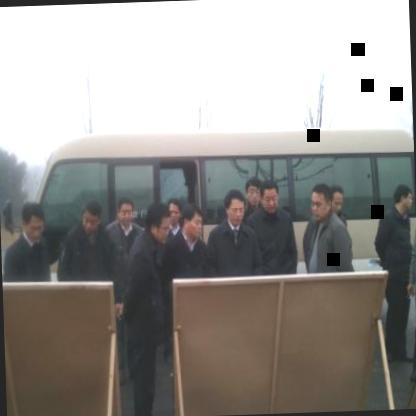head: (18, 202, 48, 243), (221, 189, 249, 229), (144, 202, 170, 244), (308, 180, 334, 221), (78, 198, 104, 238), (182, 202, 206, 238), (390, 180, 414, 214), (113, 195, 136, 228), (242, 176, 263, 210), (260, 180, 280, 214), (166, 195, 184, 228), (331, 185, 347, 218)
